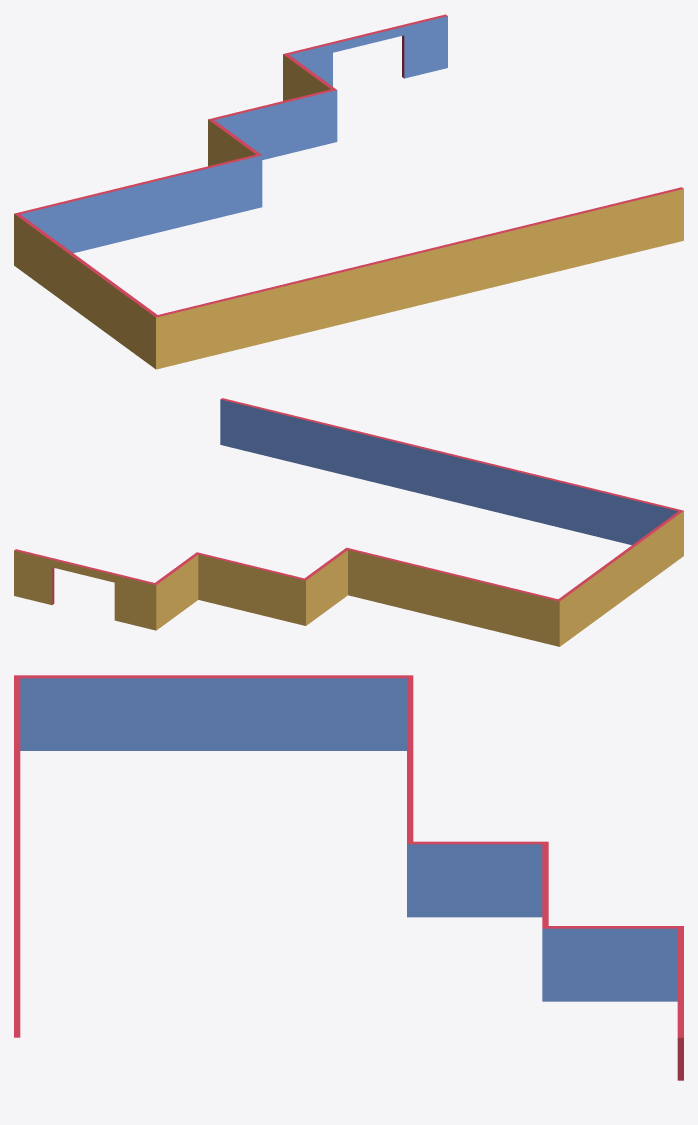
The model's file is ParedesPablo29Rosas.fbx.
3 views of the same model, one above another, from view 1: azimuth 30°, elevation 25°; view 2: azimuth 150°, elevation 25°; view 3: azimuth 270°, elevation 25° (orthographic). The views are drawn at different scales.
Parts seen in each view (by area): view 1: Cube1.001; view 2: Cube1.001; view 3: Cube1.001.
Part boxes in pixels (left/top/right/bottom): Cube1.001: left=14, top=14, right=683, bottom=369; Cube1.001: left=14, top=398, right=683, bottom=646; Cube1.001: left=14, top=675, right=683, bottom=1080.
Size of the model in its own units: 1330 by 125 by 1040.
